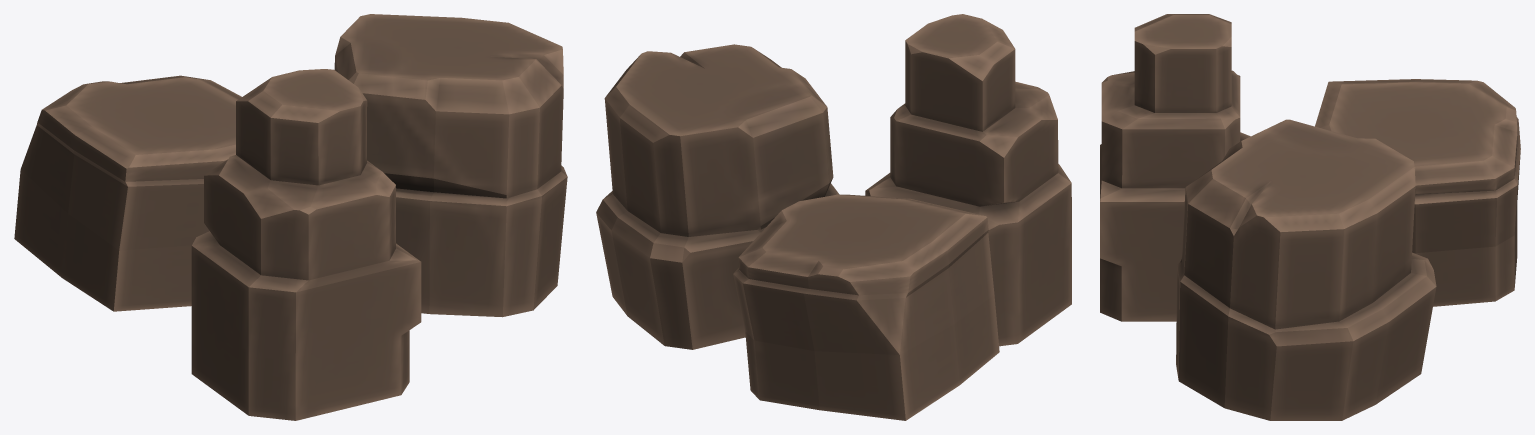
File: Lava-SmallRocks004.fbx
3 views of the same model, side by side, from view 1: azimuth 30°, elevation 25°; view 2: azimuth 150°, elevation 25°; view 3: azimuth 270°, elevation 25° (orthographic). The views are drawn at different scales.
Visible parts, largest first — view 1: Lava-SmallRocks-004; view 2: Lava-SmallRocks-004; view 3: Lava-SmallRocks-004.
Part boxes in pixels (box(x1,y1,x2,y2)): Lava-SmallRocks-004: box(14, 14, 567, 420); Lava-SmallRocks-004: box(596, 14, 1071, 420); Lava-SmallRocks-004: box(1100, 14, 1520, 420).
Size of the model in its own units: 484 by 305 by 444.
